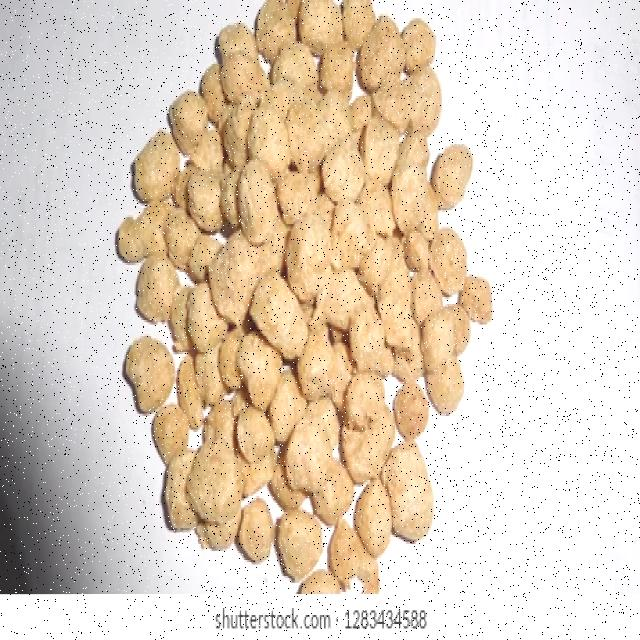Soy Chunks: (174, 47, 464, 562)
